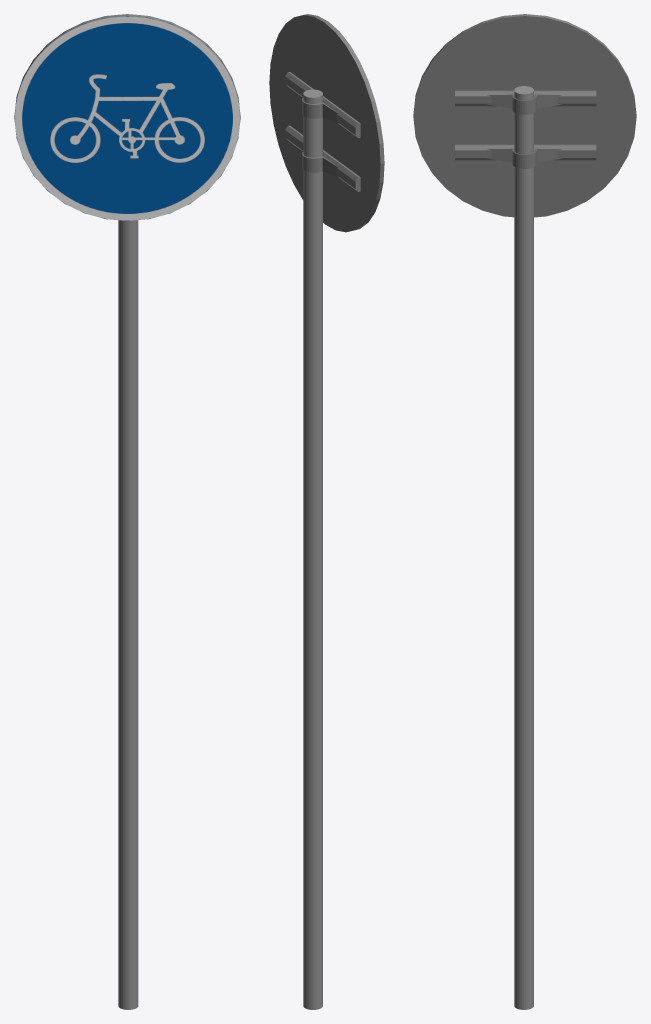
3 views of the same model, side by side, from view 1: azimuth 90°, elevation 25°; view 2: azimuth 210°, elevation 25°; view 3: azimuth 270°, elevation 25° (orthographic).
Parts seen in each view (by area): view 1: 021, Prop; view 2: Prop, 021; view 3: 021, Prop.
Part boxes in pixels (x1,y1,x2,y2): 021: [14, 14, 240, 220]; Prop: [118, 220, 138, 1009]; Prop: [285, 72, 360, 1009]; 021: [269, 14, 384, 232]; 021: [413, 14, 636, 217]; Prop: [455, 86, 596, 1009].
Bounding box in the file's own units: 6.76 × 253 × 52.01.
